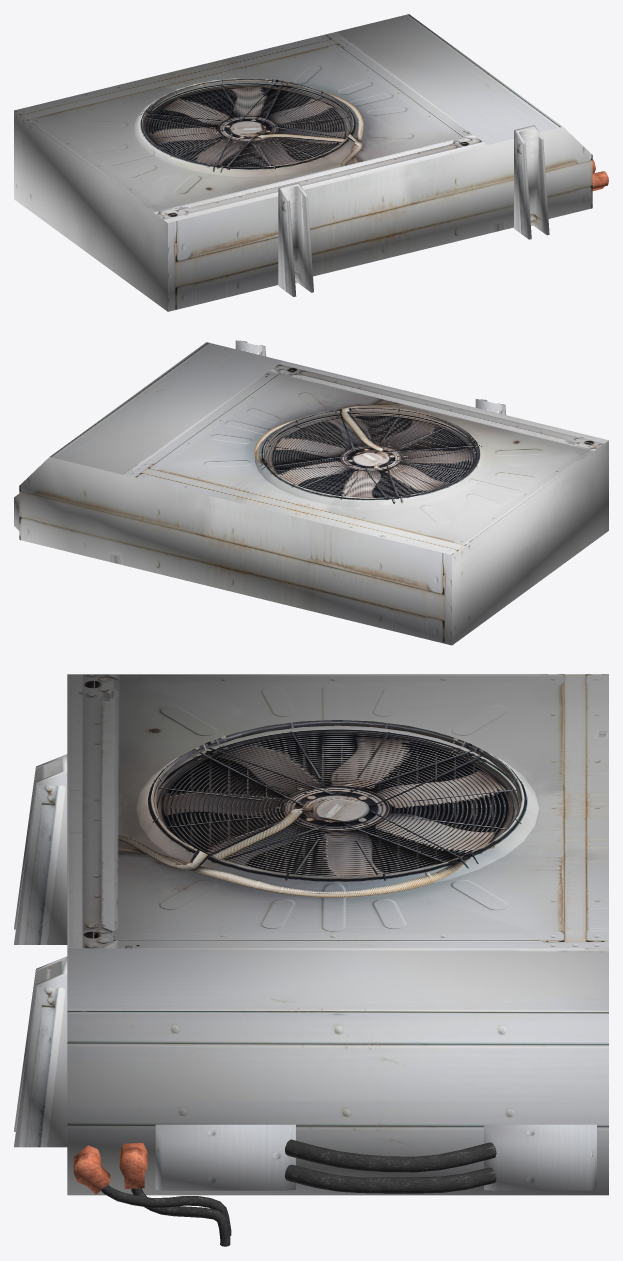
Rendered from aircon.glb.
3 views of the same model, one above another, from view 1: azimuth 30°, elevation 25°; view 2: azimuth 150°, elevation 25°; view 3: azimuth 270°, elevation 25° (orthographic). The views are drawn at different scales.
Parts seen in each view (by area): view 1: Outdoor Split Air Conditioner; view 2: Outdoor Split Air Conditioner; view 3: Outdoor Split Air Conditioner.
Part boxes in pixels (x1,y1,x2,y2): Outdoor Split Air Conditioner: (14, 14, 608, 311); Outdoor Split Air Conditioner: (14, 340, 608, 645); Outdoor Split Air Conditioner: (14, 674, 608, 1246).
Bounding box in the file's own units: 1.28 × 0.3046 × 0.8262.
1 material, 1 textured.
